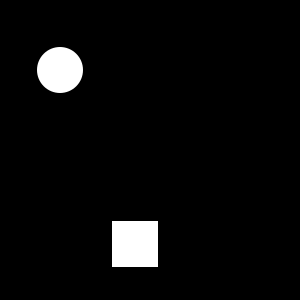circle: (112, 221, 158, 267)
rectangle: (37, 47, 83, 93)
